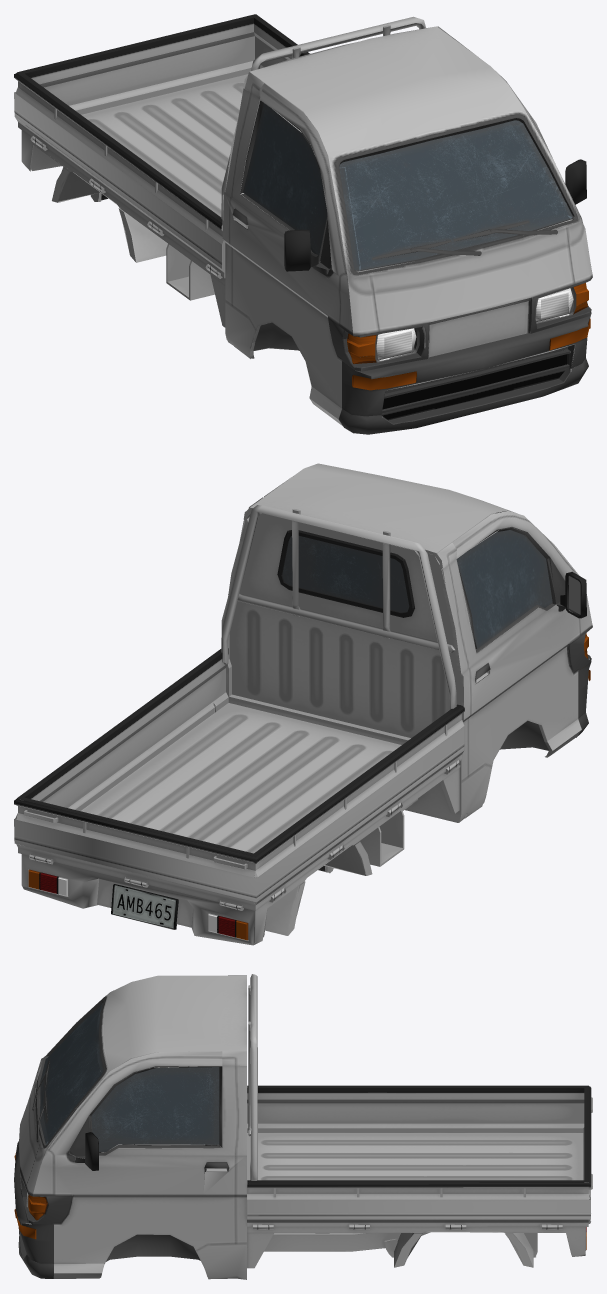
File: pick_ck.fbx
3 renders of one model, top to bottom at view 1: azimuth 30°, elevation 25°; view 2: azimuth 150°, elevation 25°; view 3: azimuth 270°, elevation 25°, orthographic. The views are drawn at different scales.
Visible parts, largest first — view 1: polySurface57; view 2: polySurface57; view 3: polySurface57.
Part boxes in pixels (bbox=[...]): polySurface57: bbox=[14, 14, 592, 434]; polySurface57: bbox=[14, 463, 592, 945]; polySurface57: bbox=[14, 974, 592, 1279].
Size of the model in its own units: 257 by 226 by 519.
Materials: 2 (2 with a texture image).
